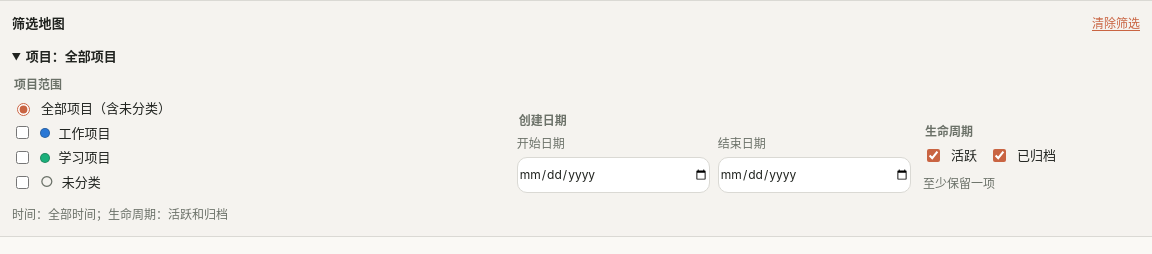
Test: ResearchMapFilters › 未分类可独立选择，也可和项目组合
This screenshot has width=1152, height=254.
Click the checkbox labelled "未分类": click(22, 183) 16,176 -> 29,189
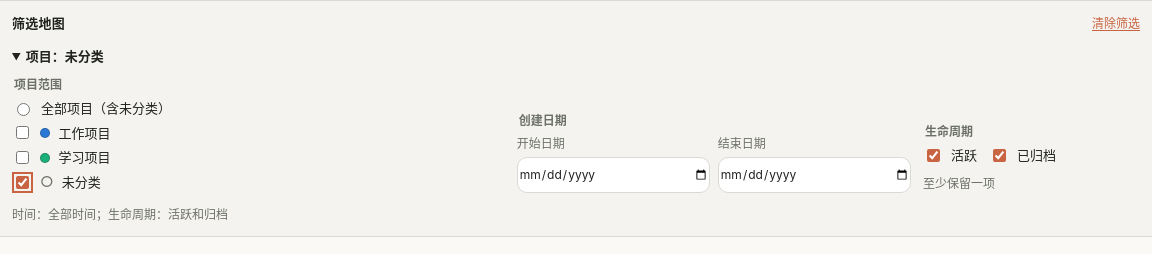
Check: the checkbox labelled "未分类" is checked, box 16,176 -> 29,189
Check: the heading "项目：未分类" is shown, box 26,48 -> 104,64
Click the checkbox labelled "工作项目": click(22, 133) 16,126 -> 29,140
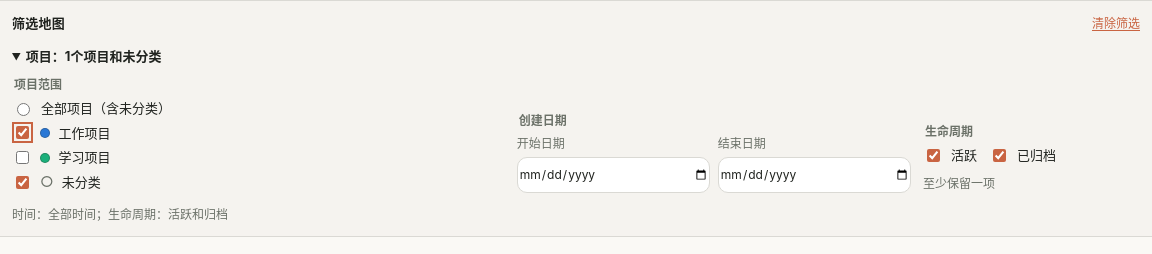
Check: the heading "项目：1个项目和未分类" is shown, box 26,48 -> 161,64
